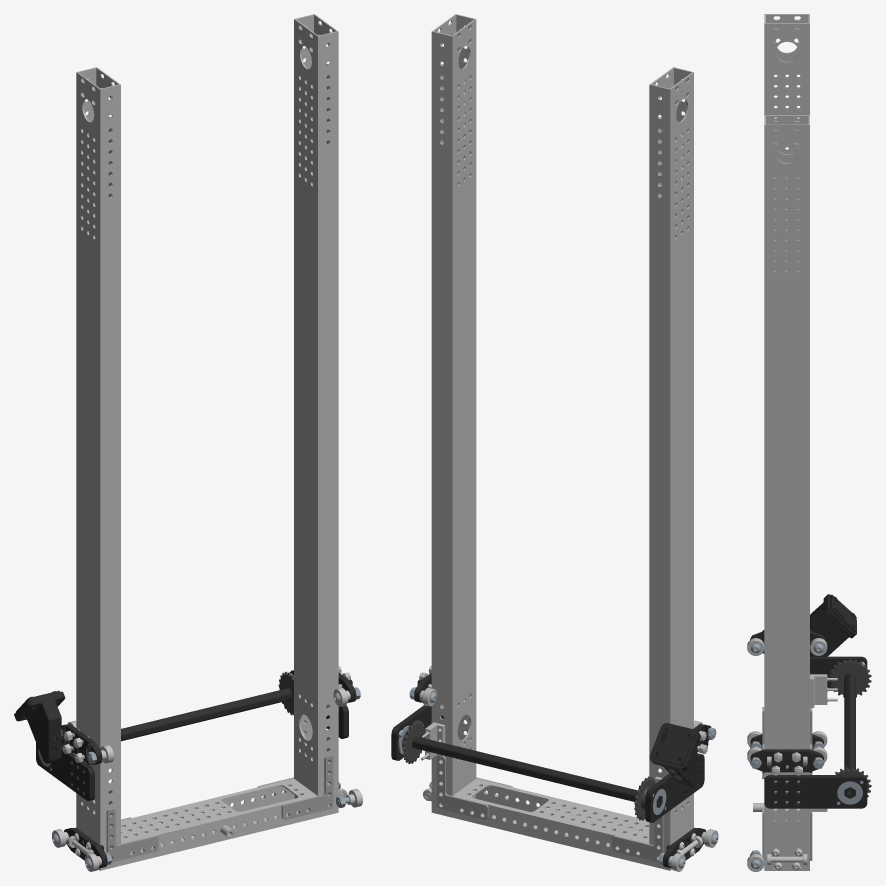
3 renders of one model, left to right at view 1: azimuth 30°, elevation 25°; view 2: azimuth 150°, elevation 25°; view 3: azimuth 270°, elevation 25°, orthographic. The views are drawn at different scales.
Parts seen in each view (by area): view 1: Tube 2"x1"x36" (×2), Tube 2"x1"x9.5", 90Deg Bracket (×2), 1/2" ThunderHex (12.5 in), mustnag cam base v13, Top Elevator Bearing Plate ELEV-DRIVE-002, Sliding Bearing Block Plate - SLIDE-001; view 2: Tube 2"x1"x36" (×2), Tube 2"x1"x9.5", 1/2" ThunderHex (12.5 in), mustnag cam base v13, 90Deg Bracket (×2), Top Elevator Bearing Plate ELEV-DRIVE-002 (×2), 25 Chain 22t .500 Hex Sprocket - ELEV-DRIVE-003; view 3: Tube 2"x1"x36" (×2), Top Elevator Bearing Plate ELEV-DRIVE-002 (×2), mustnag cam base v13, 1/2" ThunderHex (12.5 in), Sliding Bearing Block Plate - SLIDE-001, 25 Chain 22t .500 Hex Sprocket - ELEV-DRIVE-003, 25 Chain Attachment Part ELEV-DRIVE-001, .5" Hex ID 1.125" OD Flanged Bearing (217-2734).
Boxes of the visible parts, box(x1,y1,x2,y2) form: Tube 2"x1"x36" (×2): box(76, 14, 338, 870); Tube 2"x1"x9.5": box(121, 778, 317, 865); 90Deg Bracket (×2): box(106, 755, 333, 862); 1/2" ThunderHex (12.5 in): box(71, 688, 292, 752); mustnag cam base v13: box(14, 690, 65, 763); Top Elevator Bearing Plate ELEV-DRIVE-002: box(36, 743, 94, 800); Sliding Bearing Block Plate - SLIDE-001: box(61, 724, 102, 765); Tube 2"x1"x36" (×2): box(431, 14, 693, 870); Tube 2"x1"x9.5": box(452, 778, 649, 865); 1/2" ThunderHex (12.5 in): box(412, 736, 662, 807); mustnag cam base v13: box(649, 723, 700, 786); 90Deg Bracket (×2): box(437, 755, 663, 862); Top Elevator Bearing Plate ELEV-DRIVE-002 (×2): box(391, 705, 704, 822); 25 Chain 22t .500 Hex Sprocket - ELEV-DRIVE-003: box(402, 720, 425, 763); Tube 2"x1"x36" (×2): box(764, 14, 809, 870); Top Elevator Bearing Plate ELEV-DRIVE-002 (×2): box(764, 656, 867, 808); mustnag cam base v13: box(810, 594, 856, 656); 1/2" ThunderHex (12.5 in): box(844, 673, 855, 798); Sliding Bearing Block Plate - SLIDE-001: box(750, 749, 823, 772); 25 Chain 22t .500 Hex Sprocket - ELEV-DRIVE-003: box(828, 659, 871, 697); 25 Chain Attachment Part ELEV-DRIVE-001: box(810, 674, 837, 707); .5" Hex ID 1.125" OD Flanged Bearing (217-2734): box(837, 781, 862, 804).
Size of the model in its own units: 0.3628 by 0.9144 by 0.1383.
